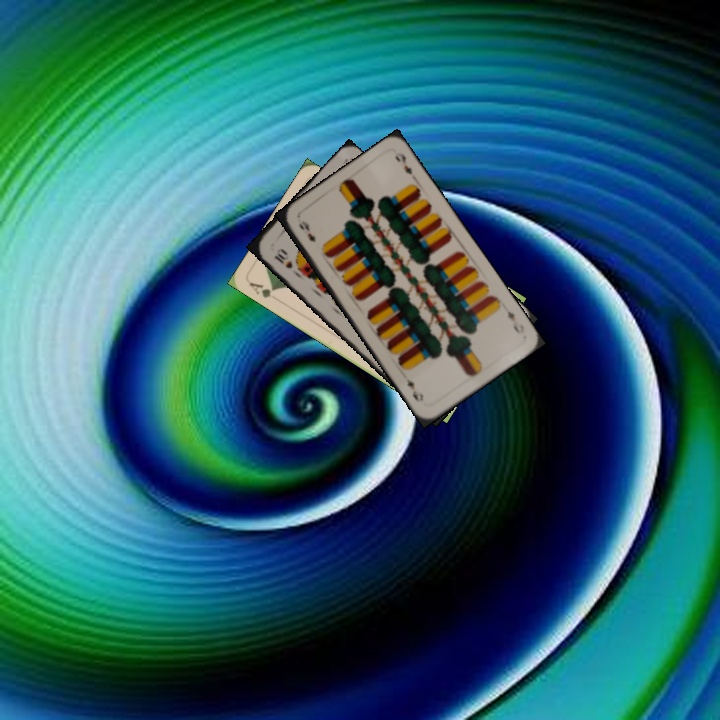E9: (503, 307, 527, 336), (294, 217, 318, 245)
GA: (245, 278, 278, 301)
S10: (270, 245, 295, 271)
